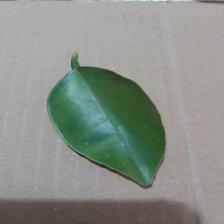greening: (34, 52, 188, 195)
